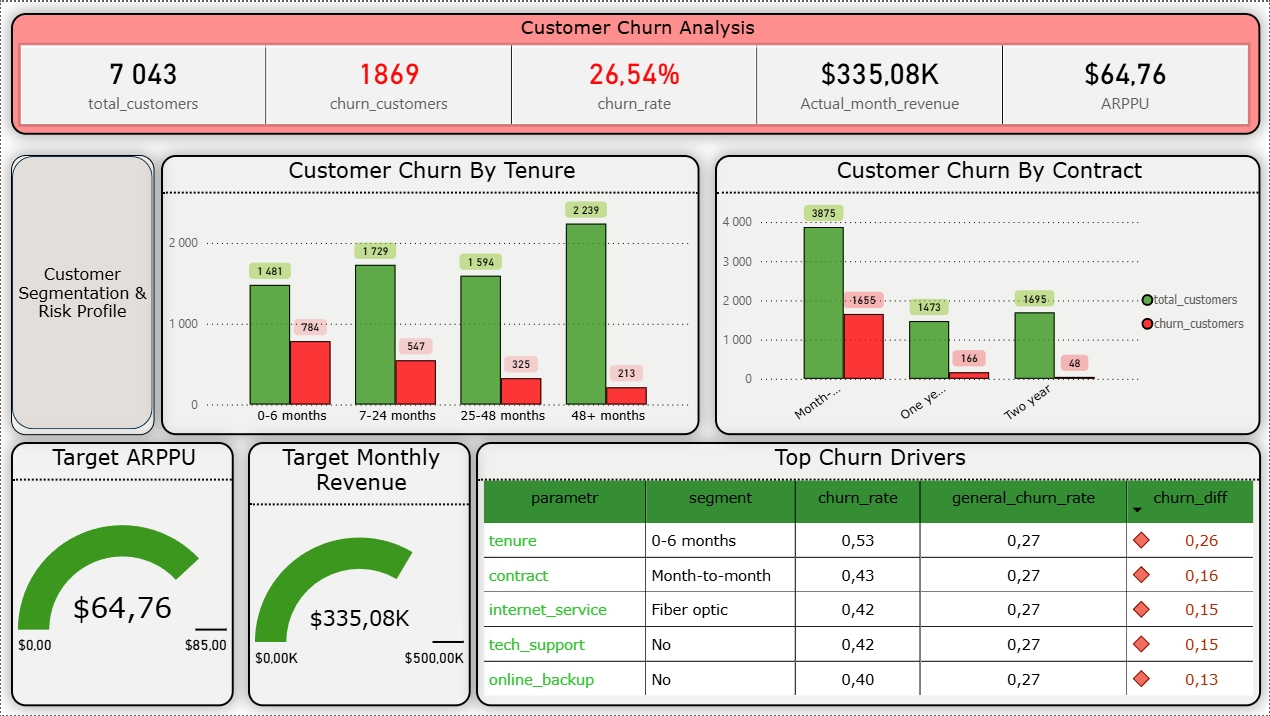

The page's visual inventory and layout, read from the dashboard file:
{"tool":"powerbi","page":{"name":"Executive Summary","canvas":[1280,720],"ordinal":0},"visuals":[{"type":"clusteredColumnChart","title":"Customer Churn By Tenure","fields":{"Category":["telecom.tenure_level"],"Y":["telecom.total_customers","telecom.churn_customers"]},"box":[161.5,154.7,543.7,283],"z":0},{"type":"cardVisual","title":"Customer Churn Analysis","fields":{"Data":["telecom.total_customers","telecom.churn_customers","telecom.churn_rate","_Measures.Actual_month_revenue","telecom.avg_monthly_charges"]},"box":[9.7,10.7,1262.5,122.6],"z":1000},{"type":"clusteredColumnChart","title":"Customer Churn By Contract","fields":{"Y":["telecom.total_customers","telecom.churn_customers"],"Category":["telecom.Contract"]},"box":[721.7,154.7,550.5,283],"z":2000},{"type":"tableEx","title":"Top Churn Drivers","fields":{"Values":["telecom_processed.parametr","telecom_processed.segment","telecom_processed.churn_rate","telecom_processed.general_churn_rate","telecom_processed.churn_diff"]},"box":[479.5,444.5,792.7,267.5],"z":3000},{"type":"pageNavigator","box":[9.7,154.7,144.9,283],"z":4000},{"type":"gauge","title":"Target Monthly Revenue","fields":{"Y":["_Measures.Actual_month_revenue"],"TargetValue":["_Measures.target_monthly_revenue"],"MaxValue":["_Measures.target_monthly_revenue"]},"box":[250,444.5,225,267.5],"z":5000},{"type":"gauge","title":"Target ARPPU","fields":{"Y":["_Measures.ARPPU"],"MaxValue":["_Measures.ARPPU_target"]},"box":[9.7,444.5,225,267.5],"z":6000}]}

Visuals, with their boxes in screenshot pixels (x1, y1, x2, y2), scaled from the page's 1280x720 canvas onto the 1270x716 screenshot:
"Customer Churn By Tenure" clusteredColumnChart: bbox=[160, 154, 700, 435]
"Customer Churn Analysis" cardVisual: bbox=[10, 11, 1262, 133]
"Customer Churn By Contract" clusteredColumnChart: bbox=[716, 154, 1262, 435]
"Top Churn Drivers" tableEx: bbox=[476, 442, 1262, 708]
pageNavigator: bbox=[10, 154, 153, 435]
"Target Monthly Revenue" gauge: bbox=[248, 442, 471, 708]
"Target ARPPU" gauge: bbox=[10, 442, 233, 708]
